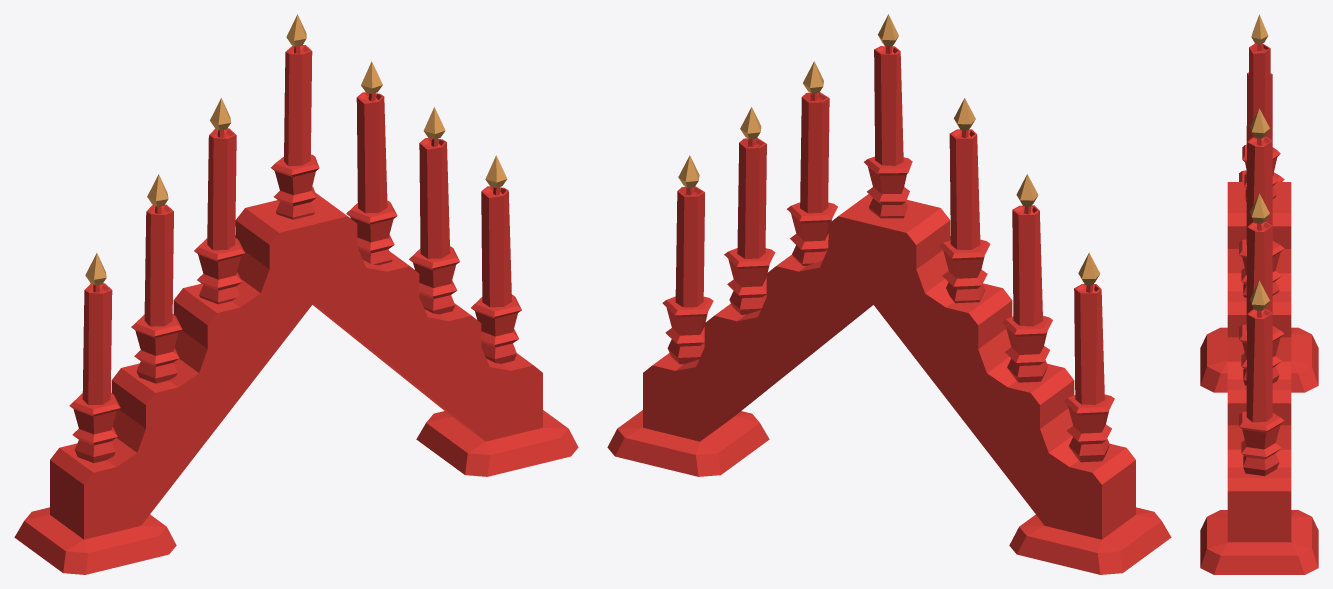
Rendered from SM_Candle_Holder_Arch.fbx.
3 renders of one model, left to right at view 1: azimuth 30°, elevation 25°; view 2: azimuth 150°, elevation 25°; view 3: azimuth 270°, elevation 25°, orthographic. The views are drawn at different scales.
Parts seen in each view (by area): view 1: candle-holder-arch; view 2: candle-holder-arch; view 3: candle-holder-arch.
Boxes of the visible parts, x1,y1,x2,y2 form: candle-holder-arch: (14,14,578,574); candle-holder-arch: (607,14,1171,574); candle-holder-arch: (1200,14,1318,574).
Bounding box in the file's own units: 0.4509 × 0.3998 × 0.0963.
